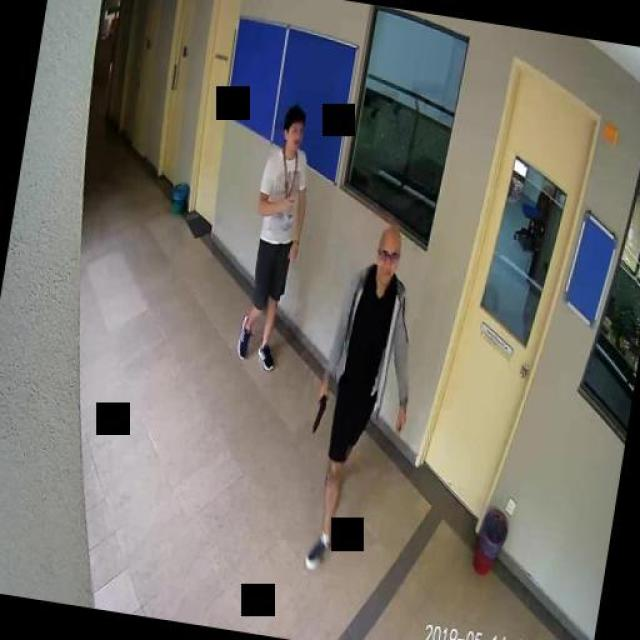gun: (310, 388, 326, 432)
